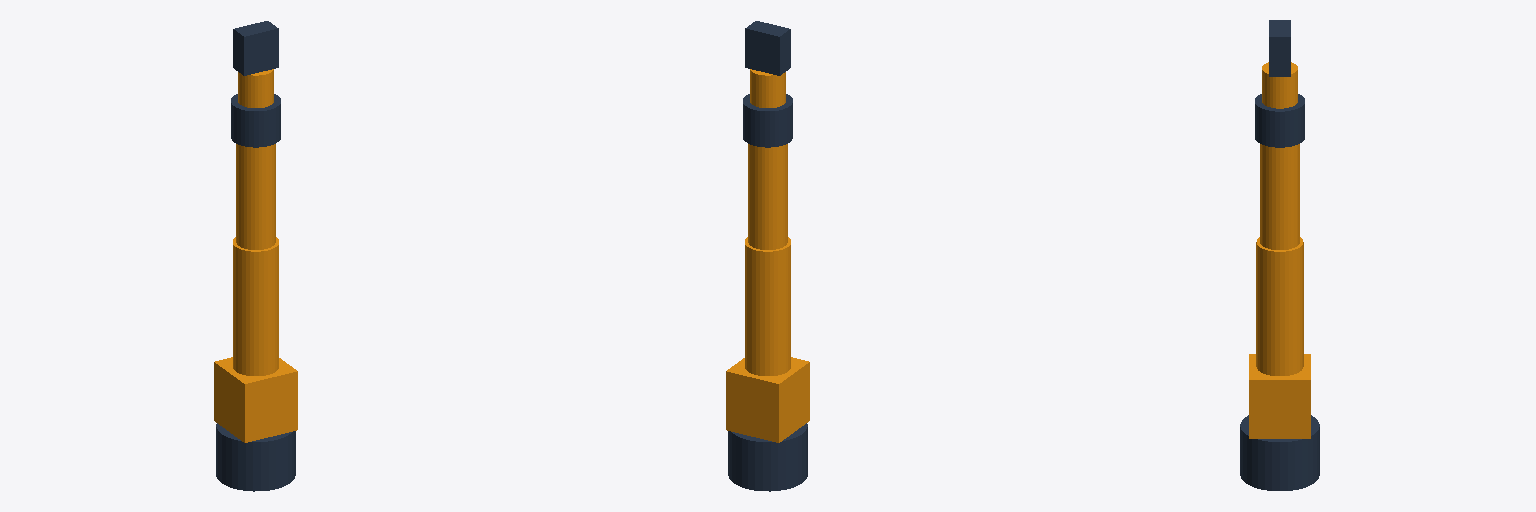
robot.urdf — Demo Six Axis Arm:
<?xml version="1.0"?>
<robot name="Demo Six Axis Arm">
  <material name="yellow"><color rgba="0.95 0.62 0.12 1"/></material>
  <material name="dark"><color rgba="0.22 0.28 0.36 1"/></material>
  <link name="arm_base"><visual><origin xyz="0 0 0.075"/><geometry><cylinder radius="0.11" length="0.15"/></geometry><material name="dark"/></visual></link>
  <link name="shoulder"><visual><origin xyz="0 0 0.09"/><geometry><box size="0.17 0.17 0.18"/></geometry><material name="yellow"/></visual></link>
  <joint name="joint_1" type="continuous"><origin xyz="0 0 0.15"/><parent link="arm_base"/><child link="shoulder"/><axis xyz="0 0 1"/></joint>
  <link name="upper_arm"><visual><origin xyz="0 0 0.19"/><geometry><cylinder radius="0.065" length="0.38"/></geometry><material name="yellow"/></visual></link>
  <joint name="joint_2" type="revolute"><origin xyz="0 0 0.18"/><parent link="shoulder"/><child link="upper_arm"/><axis xyz="0 1 0"/><limit lower="-2.4" upper="2.4" effort="100" velocity="1"/></joint>
  <link name="forearm"><visual><origin xyz="0 0 0.16"/><geometry><cylinder radius="0.055" length="0.32"/></geometry><material name="yellow"/></visual></link>
  <joint name="joint_3" type="revolute"><origin xyz="0 0 0.38"/><parent link="upper_arm"/><child link="forearm"/><axis xyz="0 1 0"/><limit lower="-2.7" upper="2.7" effort="100" velocity="1"/></joint>
  <link name="wrist_1"><visual><origin xyz="0 0 0.055"/><geometry><cylinder radius="0.07" length="0.11"/></geometry><material name="dark"/></visual></link>
  <joint name="joint_4" type="continuous"><origin xyz="0 0 0.32"/><parent link="forearm"/><child link="wrist_1"/><axis xyz="0 0 1"/></joint>
  <link name="wrist_2"><visual><origin xyz="0 0 0.05"/><geometry><cylinder radius="0.05" length="0.10"/></geometry><material name="yellow"/></visual></link>
  <joint name="joint_5" type="revolute"><origin xyz="0 0 0.11"/><parent link="wrist_1"/><child link="wrist_2"/><axis xyz="0 1 0"/><limit lower="-2.4" upper="2.4" effort="20" velocity="1"/></joint>
  <link name="tool"><visual><origin xyz="0 0 0.06"/><geometry><box size="0.11 0.06 0.12"/></geometry><material name="dark"/></visual></link>
  <joint name="joint_6" type="continuous"><origin xyz="0 0 0.10"/><parent link="wrist_2"/><child link="tool"/><axis xyz="0 0 1"/></joint>
</robot>

--- What the picture shows (computed from the rendered views, not written in the file) ---
3 views of the same robot in one strip: view 1: azimuth 30°, elevation 25°; view 2: azimuth 150°, elevation 25°; view 3: azimuth 270°, elevation 25° (orthographic).
Robot: Demo Six Axis Arm — 7 links, 6 joints (3 revolute, 3 continuous); root link arm_base; default pose: all joints at 0.
Links seen in each view (by area): view 1: upper_arm, shoulder, arm_base, forearm, tool, wrist_1, wrist_2; view 2: upper_arm, shoulder, arm_base, forearm, tool, wrist_1, wrist_2; view 3: upper_arm, shoulder, arm_base, forearm, wrist_1, wrist_2, tool.
Link boxes in pixels (left/top/right/bottom): upper_arm: left=233, top=237, right=278, bottom=375; shoulder: left=214, top=357, right=297, bottom=442; arm_base: left=216, top=423, right=295, bottom=491; forearm: left=236, top=144, right=275, bottom=249; tool: left=233, top=21, right=278, bottom=75; wrist_1: left=231, top=94, right=280, bottom=147; wrist_2: left=238, top=69, right=273, bottom=107; upper_arm: left=745, top=237, right=790, bottom=375; shoulder: left=726, top=357, right=809, bottom=442; arm_base: left=728, top=423, right=807, bottom=491; forearm: left=748, top=144, right=787, bottom=249; tool: left=745, top=21, right=790, bottom=75; wrist_1: left=743, top=94, right=792, bottom=147; wrist_2: left=750, top=69, right=785, bottom=107; upper_arm: left=1256, top=237, right=1303, bottom=375; shoulder: left=1249, top=354, right=1310, bottom=438; arm_base: left=1240, top=415, right=1319, bottom=490; forearm: left=1260, top=144, right=1299, bottom=249; wrist_1: left=1255, top=94, right=1304, bottom=147; wrist_2: left=1262, top=62, right=1297, bottom=108; tool: left=1269, top=20, right=1290, bottom=76.
Size in the robot's own frame: 0.22 by 0.22 by 1.36 metres.
Geometry: primitives only (box / cylinder / sphere), no mesh files.
